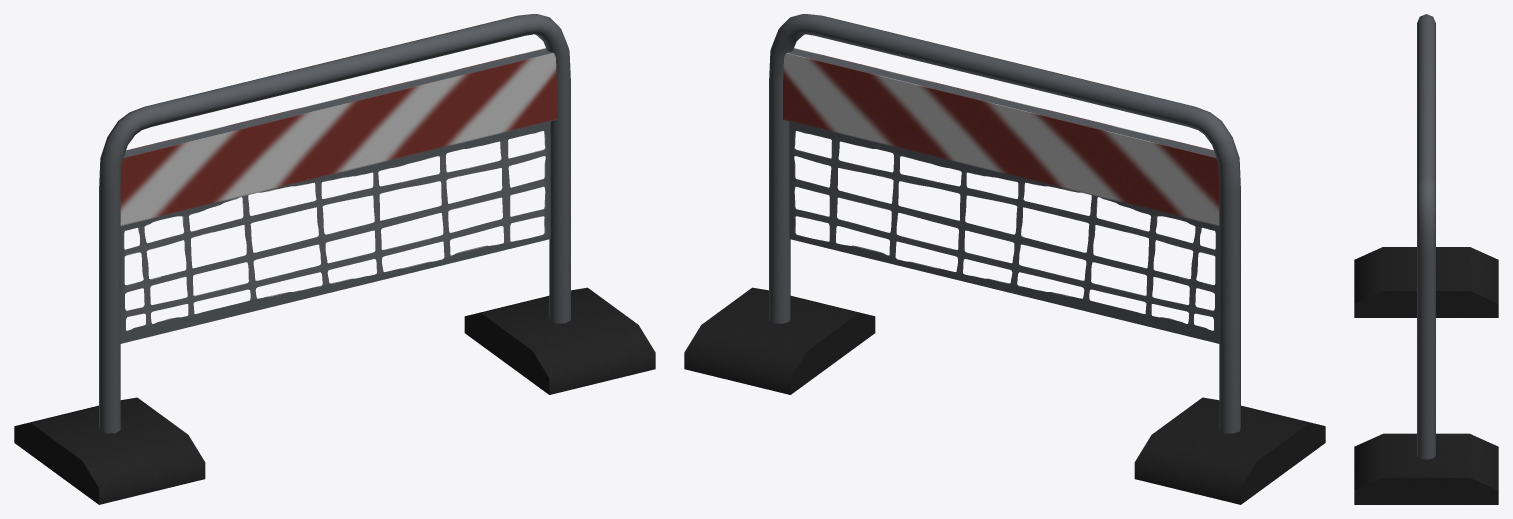
Rendered from drogowa-barierka.fbx.
3 renders of one model, left to right at view 1: azimuth 30°, elevation 25°; view 2: azimuth 150°, elevation 25°; view 3: azimuth 270°, elevation 25°, orthographic. The views are drawn at different scales.
Parts seen in each view (by area): view 1: Cube; view 2: Cube; view 3: Cube.
Part boxes in pixels (x1=…): Cube: x1=14, y1=14, x2=655, y2=504; Cube: x1=684, y1=14, x2=1325, y2=504; Cube: x1=1354, y1=14, x2=1498, y2=504.
Size of the model in its own units: 173 by 103 by 45.59.
